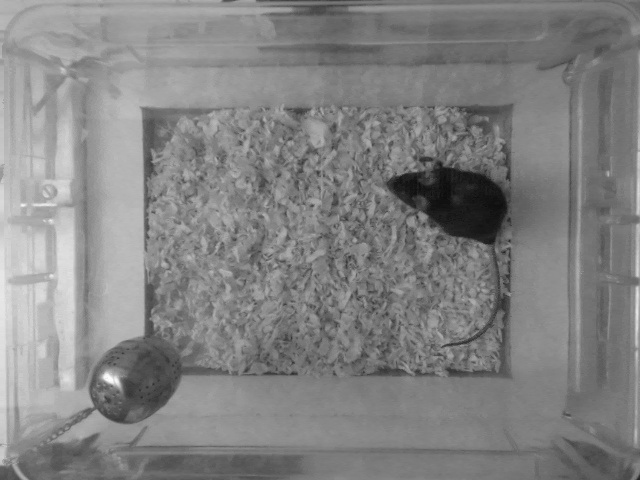mice: (387, 157, 504, 356)
